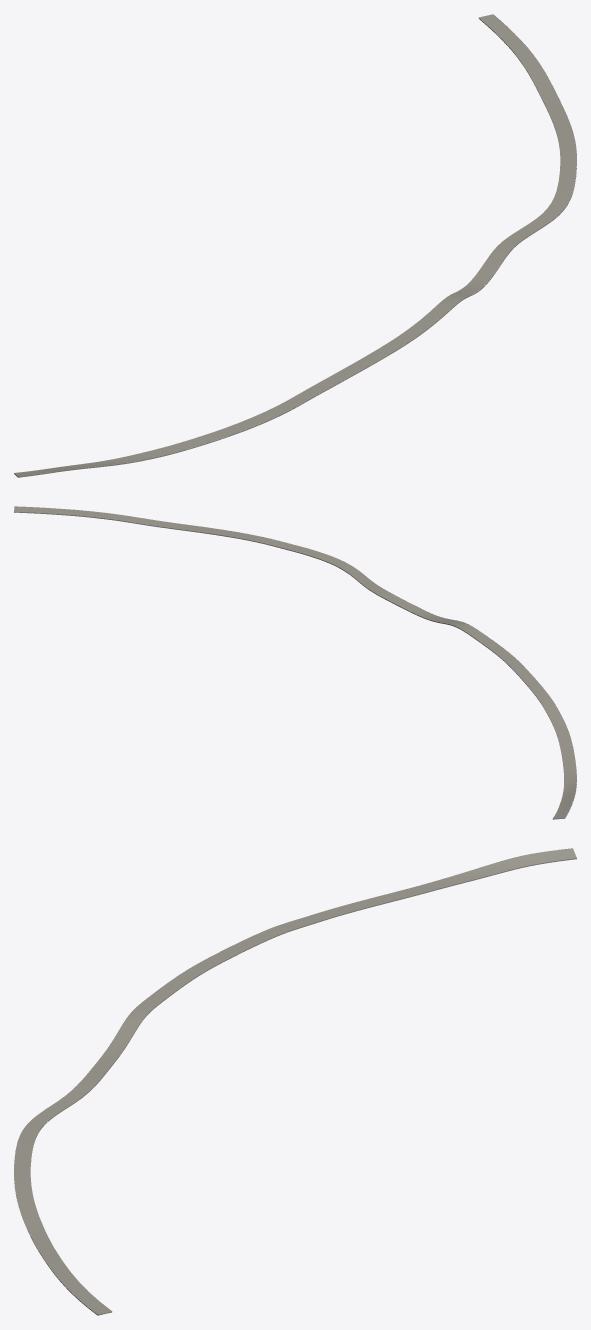
Rendered from sidewalk_01.glb.
The picture shows the model from 3 angles, top to bottom: view 1: azimuth 90°, elevation 25°; view 2: azimuth 150°, elevation 25°; view 3: azimuth 270°, elevation 25°; orthographic projection. The views are drawn at different scales.
Parts seen in each view (by area): view 1: sidewalk_01.surface, sidewalk_01.sides; view 2: sidewalk_01.surface, sidewalk_01.sides; view 3: sidewalk_01.surface, sidewalk_01.sides.
Boxes of the visible parts, x1,y1,x2,y2 form: sidewalk_01.surface: (14,14,576,476); sidewalk_01.sides: (14,18,576,477); sidewalk_01.surface: (14,506,576,818); sidewalk_01.sides: (14,506,576,819); sidewalk_01.surface: (14,848,576,1314); sidewalk_01.sides: (14,848,576,1315).
Size of the model in its own units: 164 by 2.32 by 84.26.
1 material, 1 textured.
